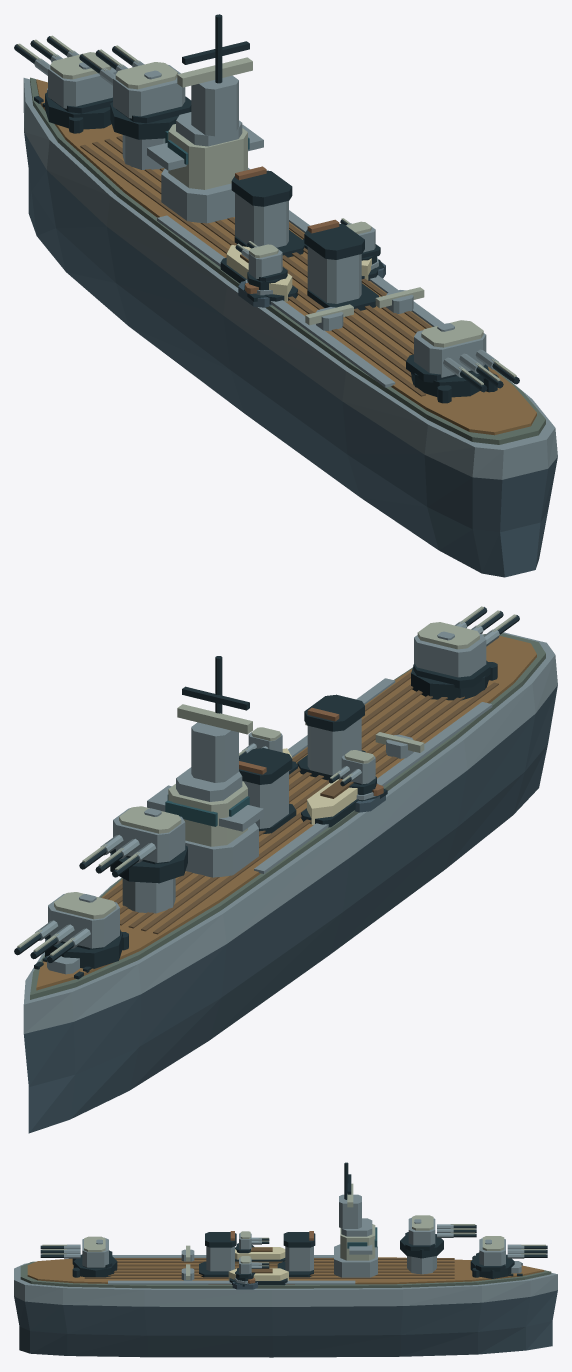
File: historic-new-orleans.glb
3 views of the same model, one above another, from view 1: azimuth 30°, elevation 25°; view 2: azimuth 150°, elevation 25°; view 3: azimuth 270°, elevation 25° (orthographic). The views are drawn at different scales.
Parts seen in each view (by area): view 1: historic-new-orleans-historic-new-orleans-geometry, historic-new-orleans-part_bridge.094-geometry, historic-new-orleans-turret_main_1.061-geometry, historic-new-orleans-turret_main_2.054-geometry, historic-new-orleans-turret_main_0.065-geometry, historic-new-orleans-historic_funnel_1.046-geometry, historic-new-orleans-historic_funnel_0.092-geometry, historic-new-orleans-turret_aa_aa-port.096-geometry, historic-new-orleans-historic_catapult_0.017-geometry, historic-new-orleans-historic_catapult_1.003-geometry, historic-new-orleans-turret_aa_aa-starboard.092-geometry; view 2: historic-new-orleans-historic-new-orleans-geometry, historic-new-orleans-part_bridge.094-geometry, historic-new-orleans-turret_main_2.054-geometry, historic-new-orleans-turret_main_1.061-geometry, historic-new-orleans-turret_main_0.065-geometry, historic-new-orleans-historic_funnel_1.046-geometry, historic-new-orleans-historic_funnel_0.092-geometry, historic-new-orleans-turret_aa_aa-port.096-geometry, historic-new-orleans-historic_catapult_0.017-geometry, historic-new-orleans-turret_aa_aa-starboard.092-geometry; view 3: historic-new-orleans-historic-new-orleans-geometry, historic-new-orleans-part_bridge.094-geometry, historic-new-orleans-turret_main_1.061-geometry, historic-new-orleans-turret_main_2.054-geometry, historic-new-orleans-turret_main_0.065-geometry, historic-new-orleans-historic_funnel_1.046-geometry, historic-new-orleans-historic_funnel_0.092-geometry, historic-new-orleans-turret_aa_aa-starboard.092-geometry, historic-new-orleans-turret_aa_aa-port.096-geometry.
Part boxes in pixels (x1,y1,x2,y2): historic-new-orleans-historic-new-orleans-geometry: (23, 77, 557, 577); historic-new-orleans-part_bridge.094-geometry: (147, 14, 263, 223); historic-new-orleans-turret_main_1.061-geometry: (79, 45, 191, 139); historic-new-orleans-turret_main_2.054-geometry: (406, 320, 519, 397); historic-new-orleans-turret_main_0.065-geometry: (14, 35, 116, 129); historic-new-orleans-historic_funnel_1.046-geometry: (304, 219, 378, 310); historic-new-orleans-historic_funnel_0.092-geometry: (231, 166, 304, 257); historic-new-orleans-turret_aa_aa-port.096-geometry: (235, 241, 287, 290); historic-new-orleans-historic_catapult_0.017-geometry: (305, 304, 353, 330); historic-new-orleans-historic_catapult_1.003-geometry: (375, 287, 424, 313); historic-new-orleans-turret_aa_aa-starboard.092-geometry: (340, 218, 380, 264); historic-new-orleans-historic-new-orleans-geometry: (23, 632, 557, 1133); historic-new-orleans-part_bridge.094-geometry: (147, 656, 263, 877); historic-new-orleans-turret_main_2.054-geometry: (411, 606, 519, 700); historic-new-orleans-turret_main_1.061-geometry: (79, 806, 187, 883); historic-new-orleans-turret_main_0.065-geometry: (14, 892, 122, 968); historic-new-orleans-historic_funnel_1.046-geometry: (297, 694, 365, 780); historic-new-orleans-historic_funnel_0.092-geometry: (239, 748, 296, 834); historic-new-orleans-turret_aa_aa-port.096-geometry: (328, 750, 376, 794); historic-new-orleans-historic_catapult_0.017-geometry: (375, 732, 424, 758); historic-new-orleans-turret_aa_aa-starboard.092-geometry: (239, 727, 282, 758); historic-new-orleans-historic-new-orleans-geometry: (14, 1247, 557, 1357); historic-new-orleans-part_bridge.094-geometry: (334, 1162, 377, 1277); historic-new-orleans-turret_main_1.061-geometry: (400, 1215, 476, 1258); historic-new-orleans-turret_main_2.054-geometry: (40, 1236, 117, 1277); historic-new-orleans-turret_main_0.065-geometry: (470, 1236, 547, 1278); historic-new-orleans-historic_funnel_1.046-geometry: (199, 1231, 236, 1277); historic-new-orleans-historic_funnel_0.092-geometry: (277, 1231, 315, 1277); historic-new-orleans-turret_aa_aa-starboard.092-geometry: (235, 1256, 269, 1281); historic-new-orleans-turret_aa_aa-port.096-geometry: (235, 1231, 269, 1253).
Bounding box in the file's own units: 0.6702 × 1.6 × 4.32.
